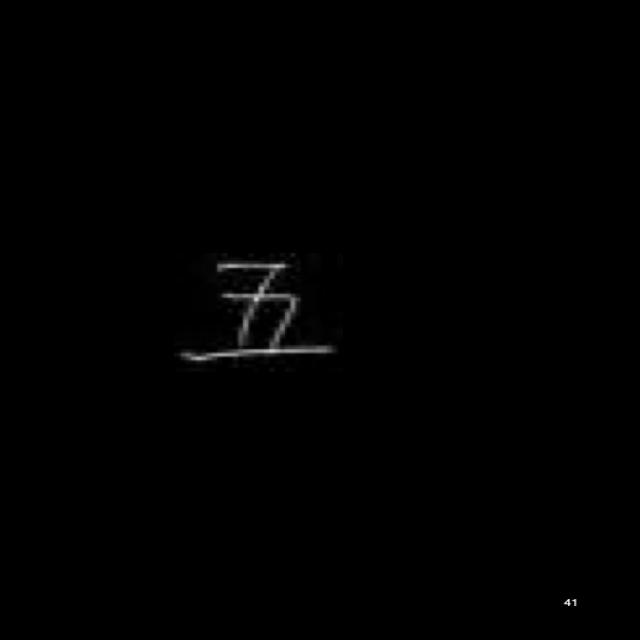5 -five-: (175, 249, 336, 373)
